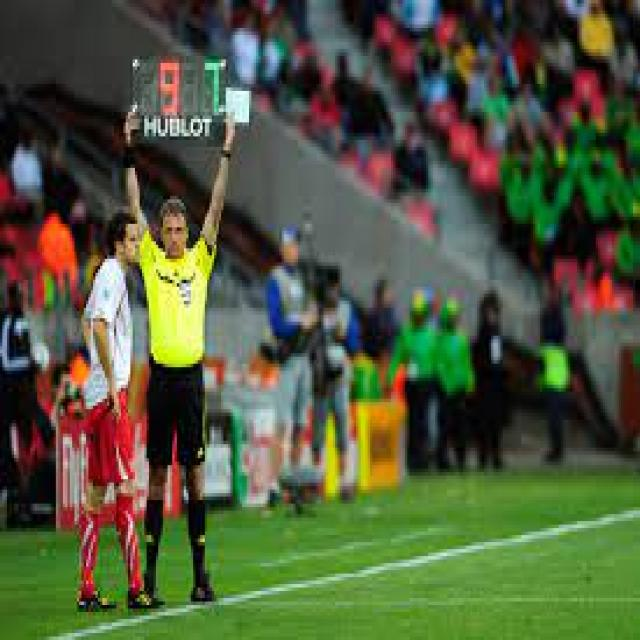substitution: (126, 52, 238, 155)
